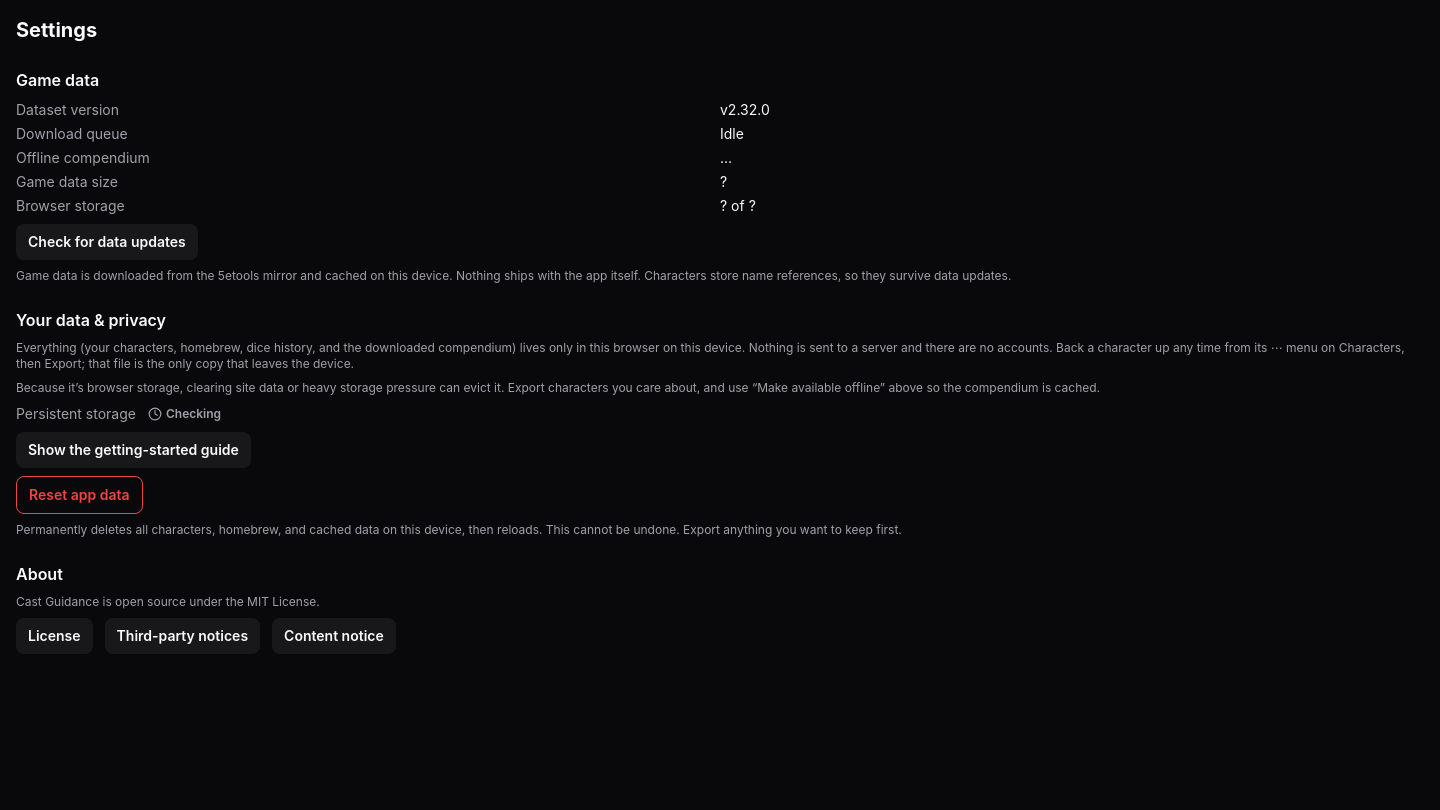
Test: SettingsPage data section › offers to retry the install that failed, without asking again
Click the button "Check for data updates" at [107, 242], box left=16, top=224, right=198, bottom=260
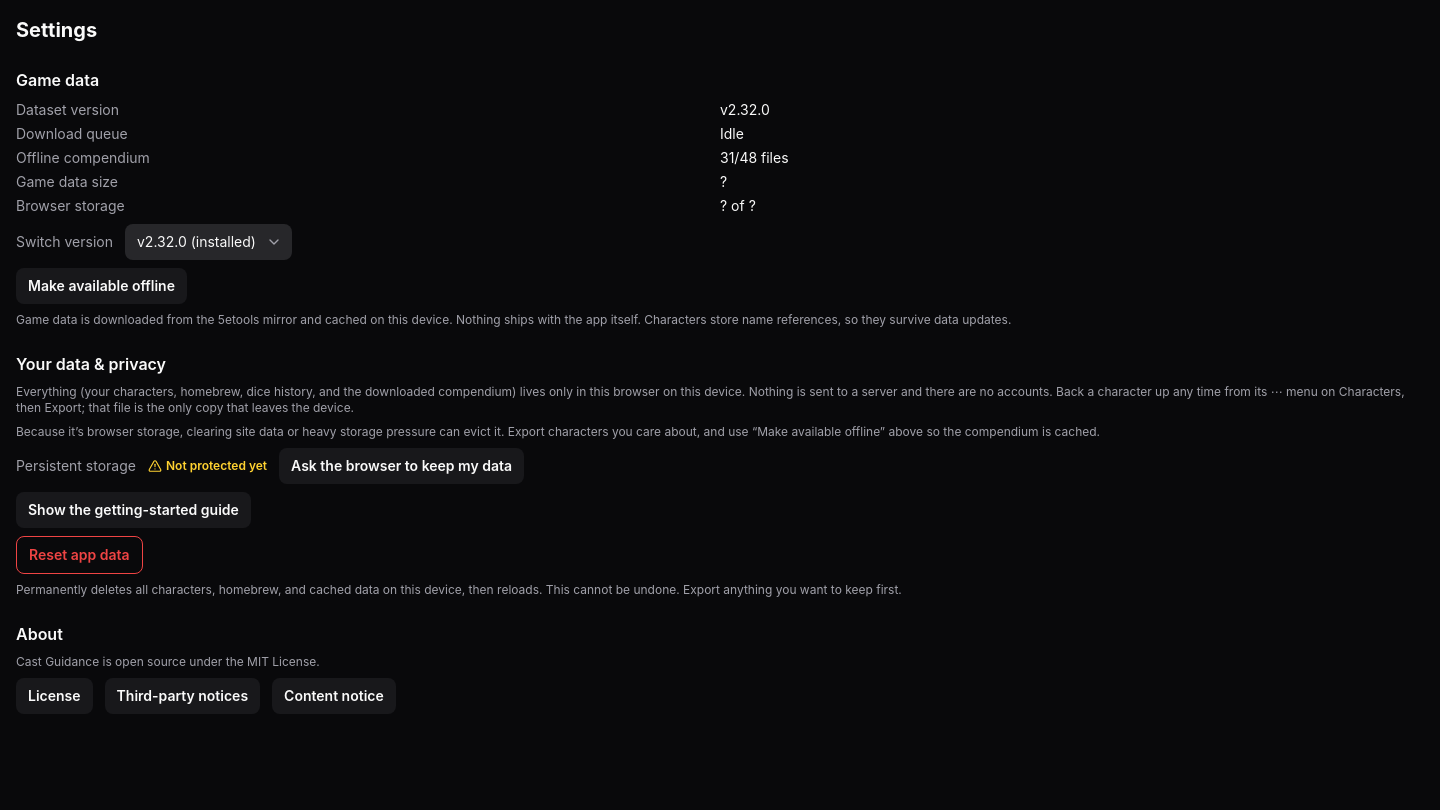
Select "v2.33.0" in the dropdown labelled "Switch version" at [208, 242], box left=125, top=224, right=292, bottom=260
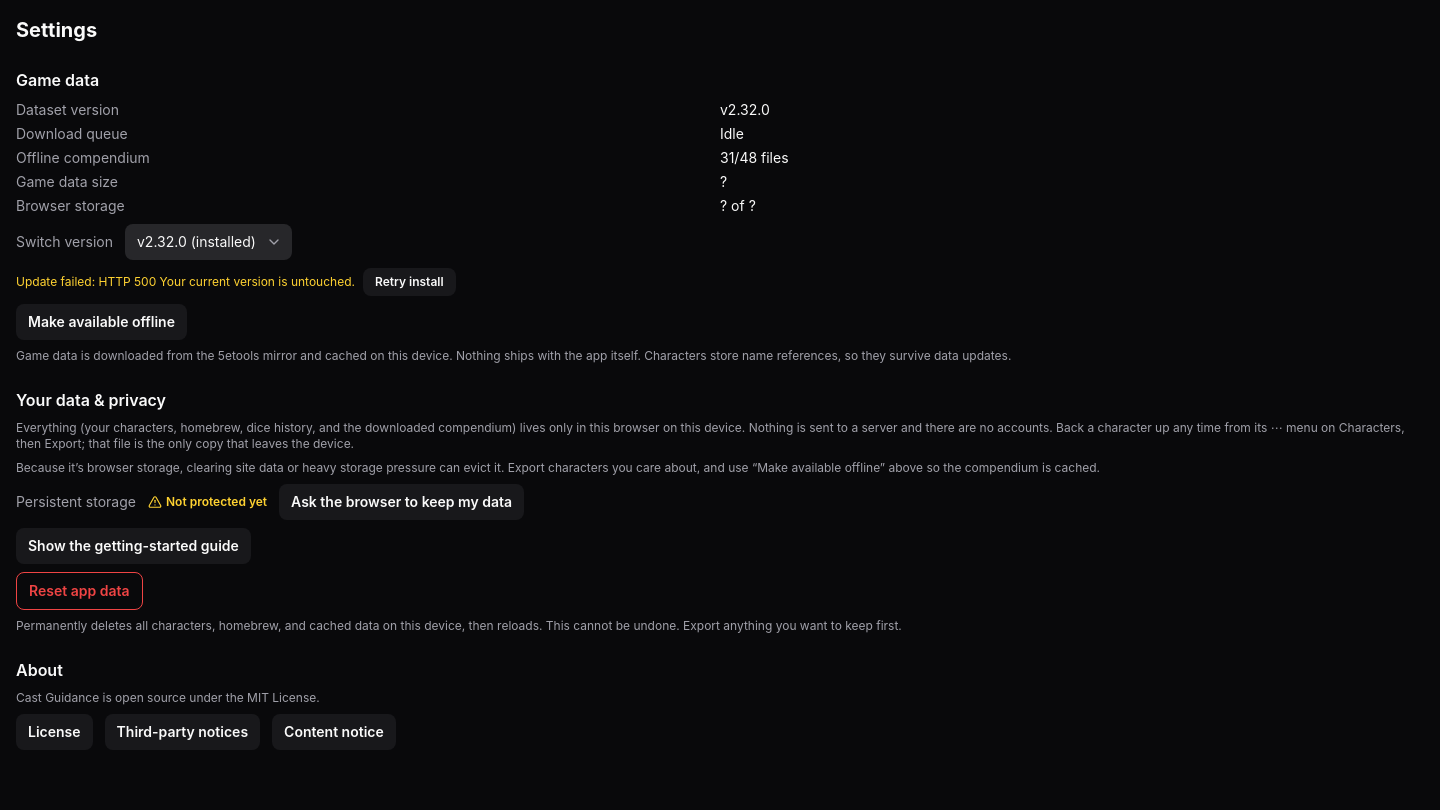
Expected: the text "Update failed: HTTP 500 Your current version is untouched. Retry install" is shown, left=16, top=268, right=456, bottom=296
Click the button "Retry install" at [409, 282], box left=363, top=268, right=456, bottom=296
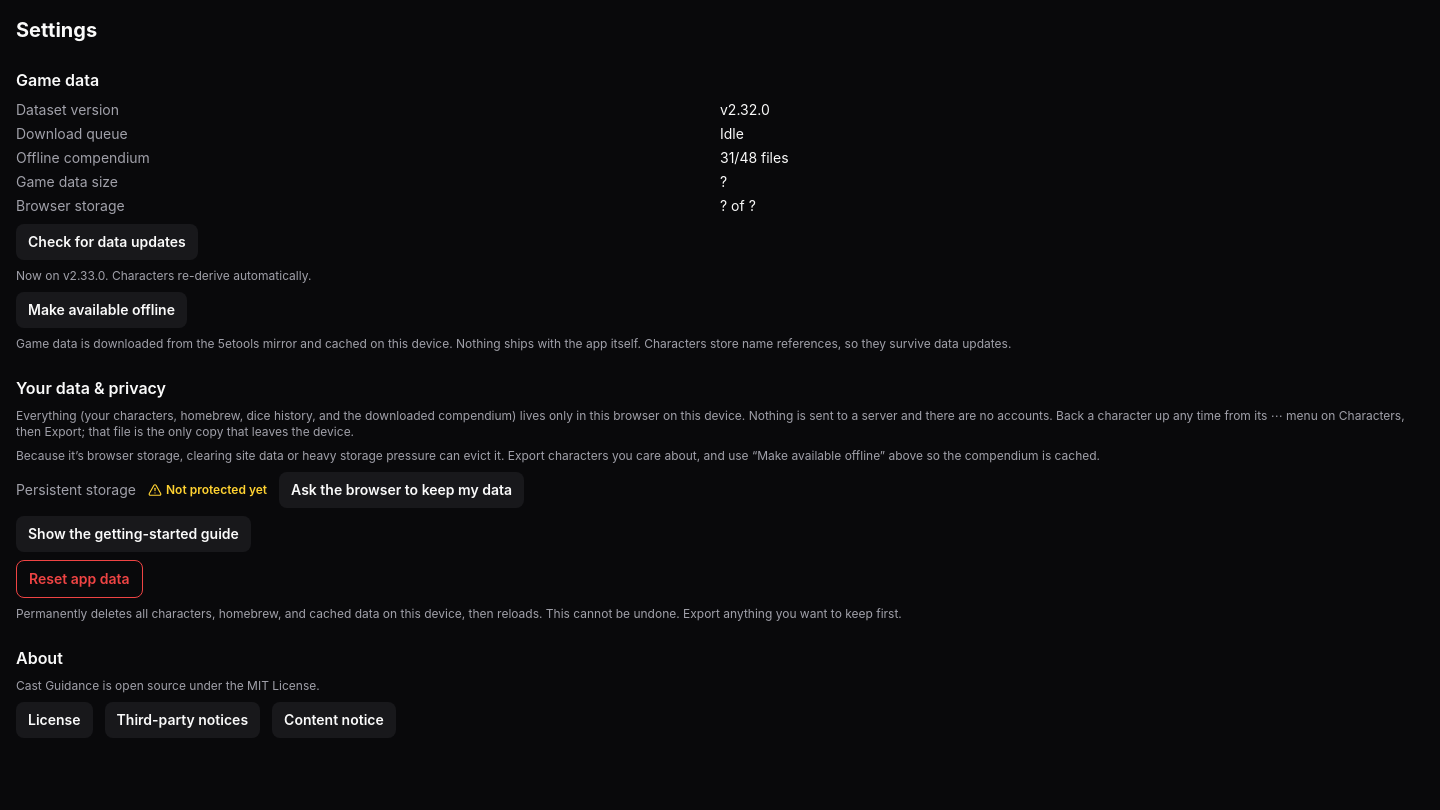
Expected: the text "Update failed" is gone
Expected: the text "Now on v2.33.0. Characters re-derive automatically." is shown, left=16, top=268, right=311, bottom=283
